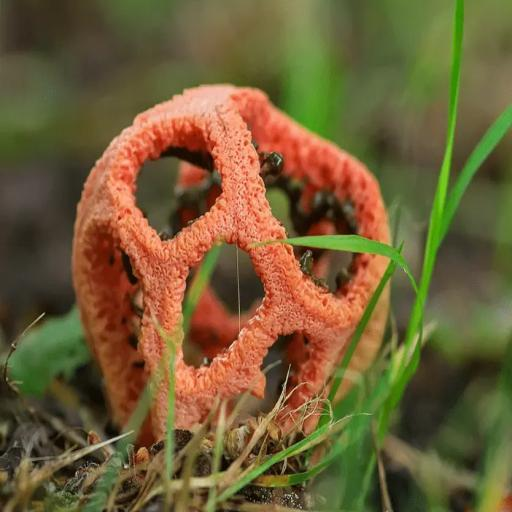mushroom: (68, 80, 404, 434)
